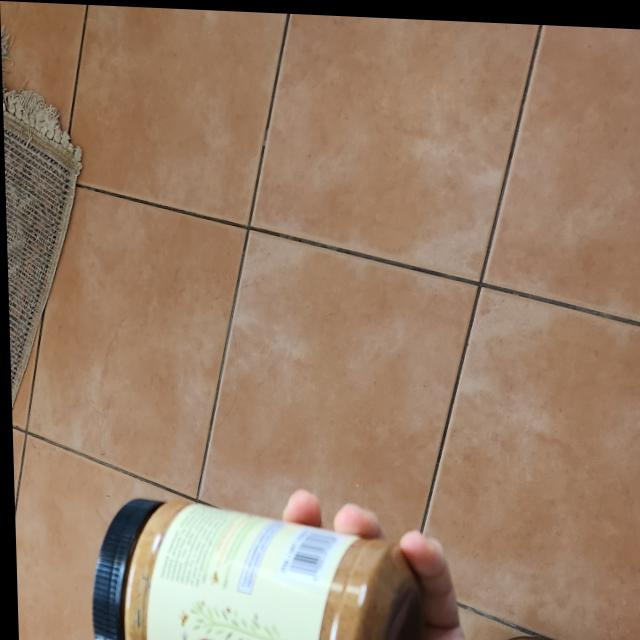almond butter: (85, 492, 416, 640)
